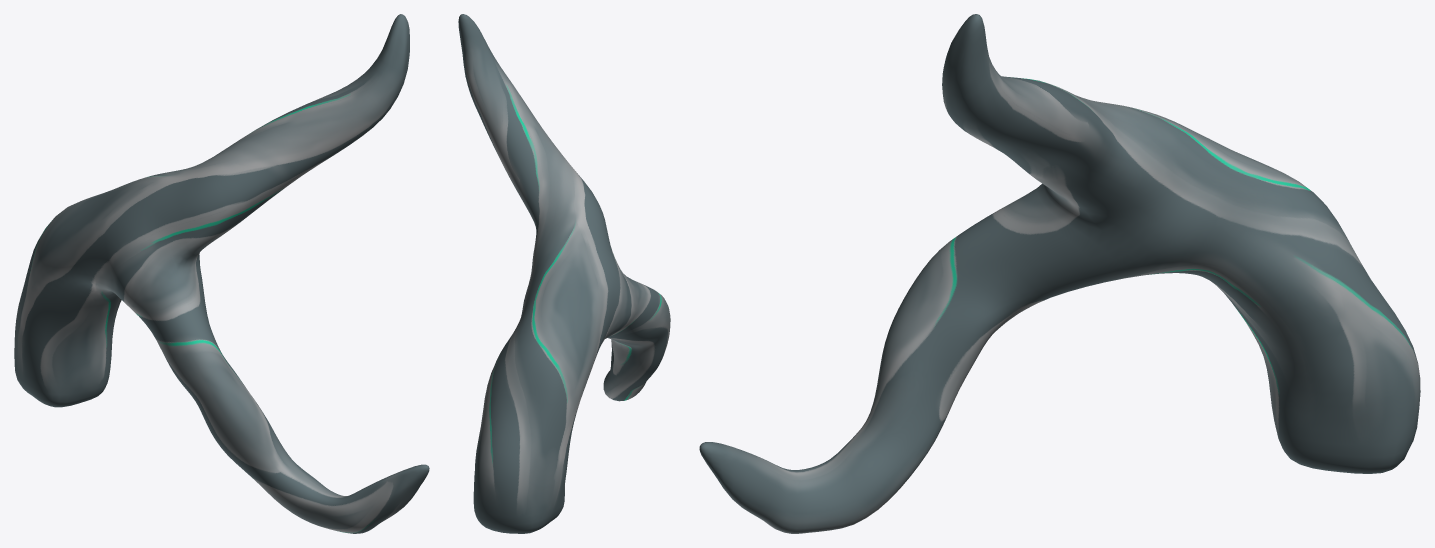
File: BlockingBranchWillow.fbx
3 renders of one model, left to right at view 1: azimuth 30°, elevation 25°; view 2: azimuth 150°, elevation 25°; view 3: azimuth 270°, elevation 25°, orthographic. The views are drawn at different scales.
Visible parts, largest first — view 1: BlockingBranchWillow; view 2: BlockingBranchWillow; view 3: BlockingBranchWillow.
Part boxes in pixels (<box>): BlockingBranchWillow: <box>14,14,429,533</box>; BlockingBranchWillow: <box>458,14,670,533</box>; BlockingBranchWillow: <box>699,14,1420,533</box>.
Size of the model in its own units: 246 by 408 by 450.
Materials: 1 (1 with a texture image).
